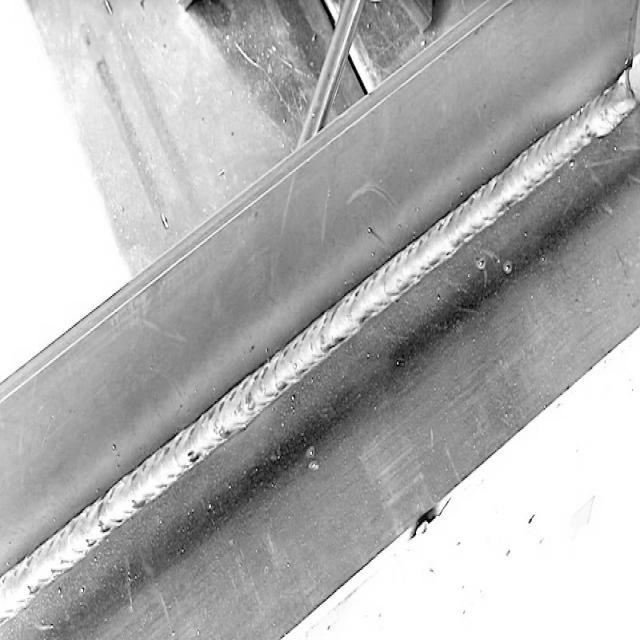Good Welding: (186, 236, 452, 465), (0, 434, 180, 626), (456, 67, 640, 248)
